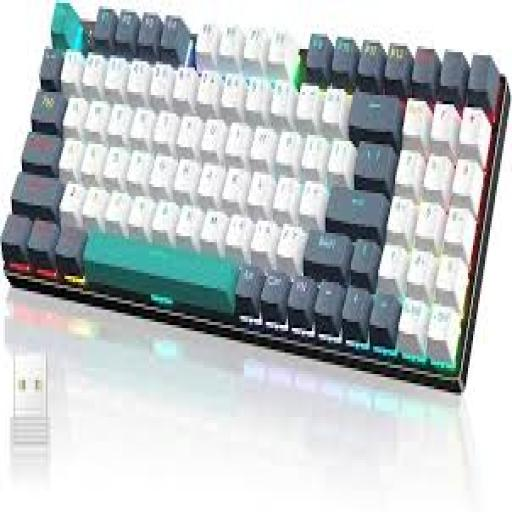keyboard: (0, 3, 509, 389)
